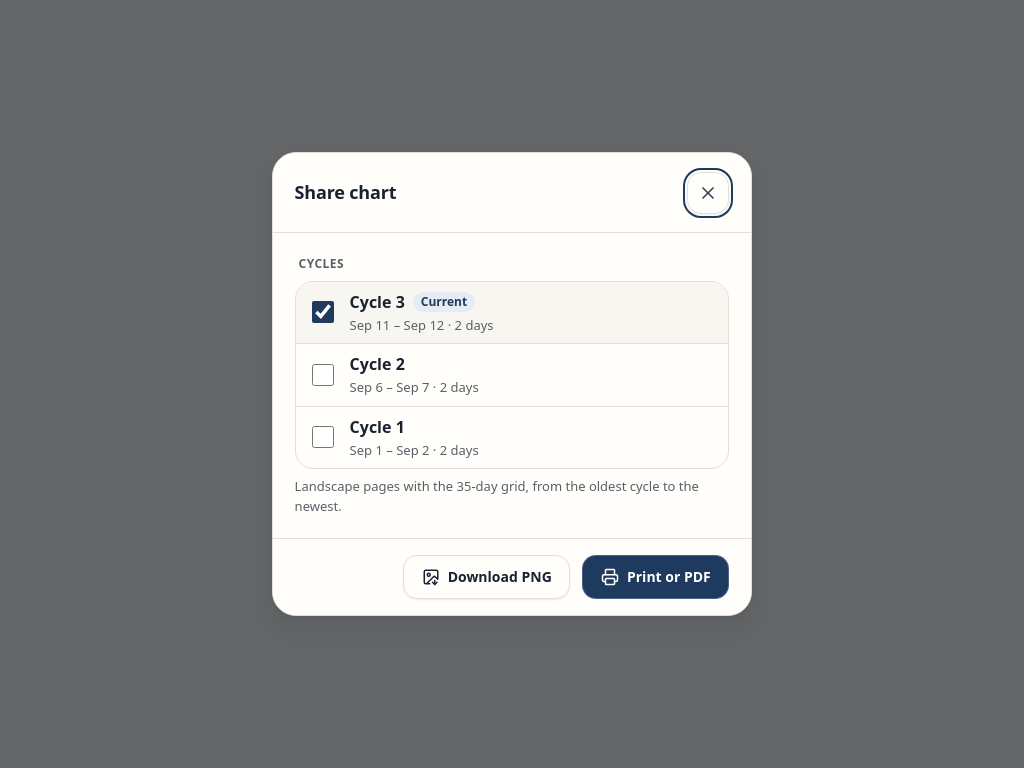
Test: ExportModal › disables the two actions when no cycle is selected
The image size is (1024, 768).
Click the checkbox labelled "Cycle 3": (323,312) [312, 301, 334, 323]
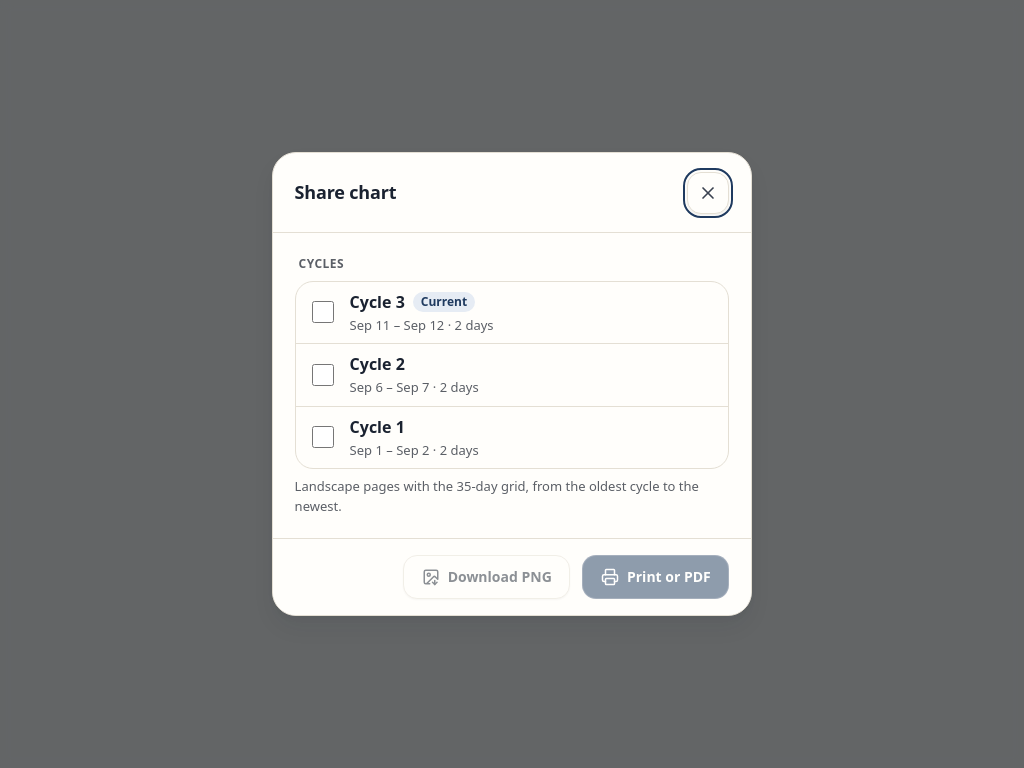
expect the checkbox labelled "Cycle 3" is not checked: met, box [312, 301, 334, 323]
expect the button "Print or PDF" is disabled: met, box [582, 555, 729, 599]
expect the button "Download PNG" is disabled: met, box [403, 555, 570, 599]
Click the checkbox labelled "Cycle 1": (323,437) [312, 426, 334, 448]
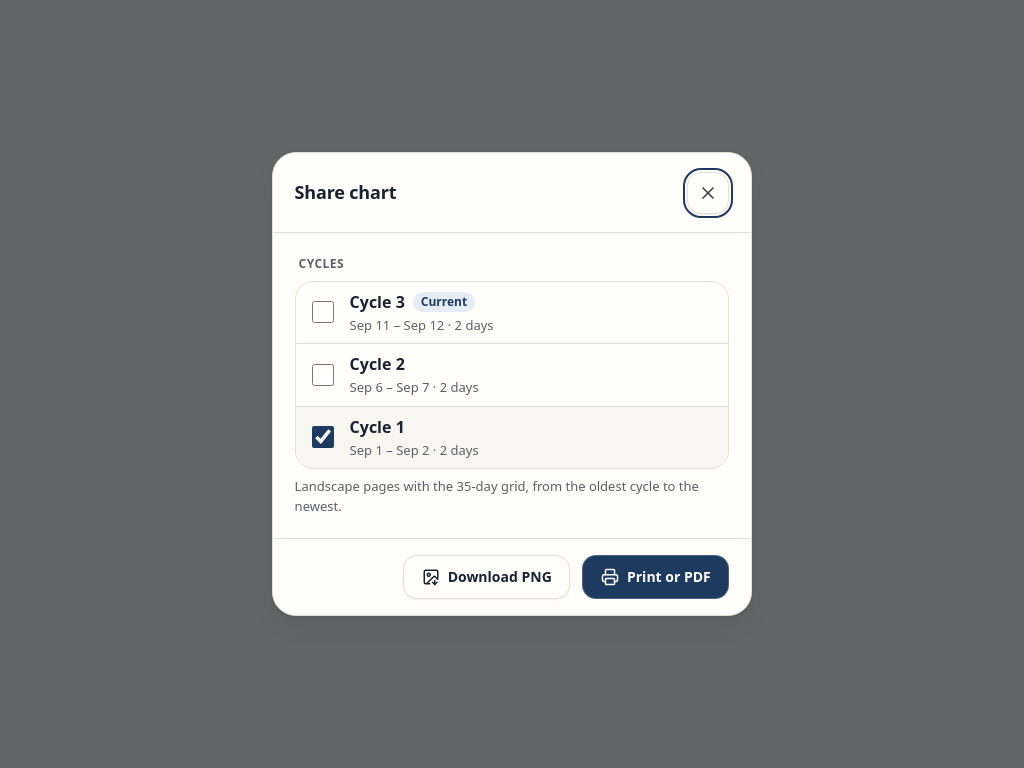
expect the button "Print or PDF" is enabled: met, box [582, 555, 729, 599]
expect the button "Download PNG" is enabled: met, box [403, 555, 570, 599]
